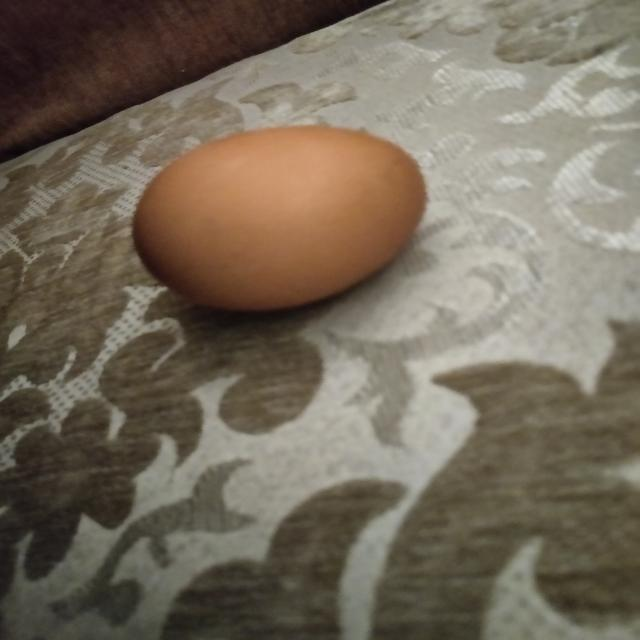egg: (120, 121, 437, 318)
